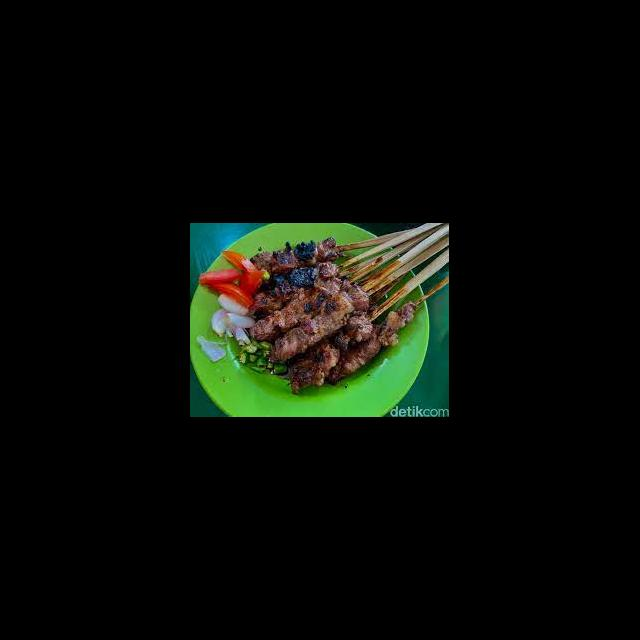food_waste: (254, 272, 357, 369)
